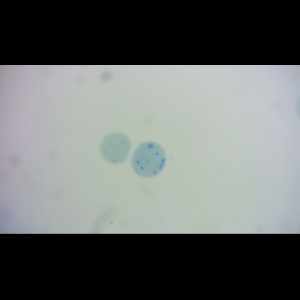aggregate reticulocyte: (131, 140, 168, 179)
punctate reticulocyte: (98, 130, 132, 165)
